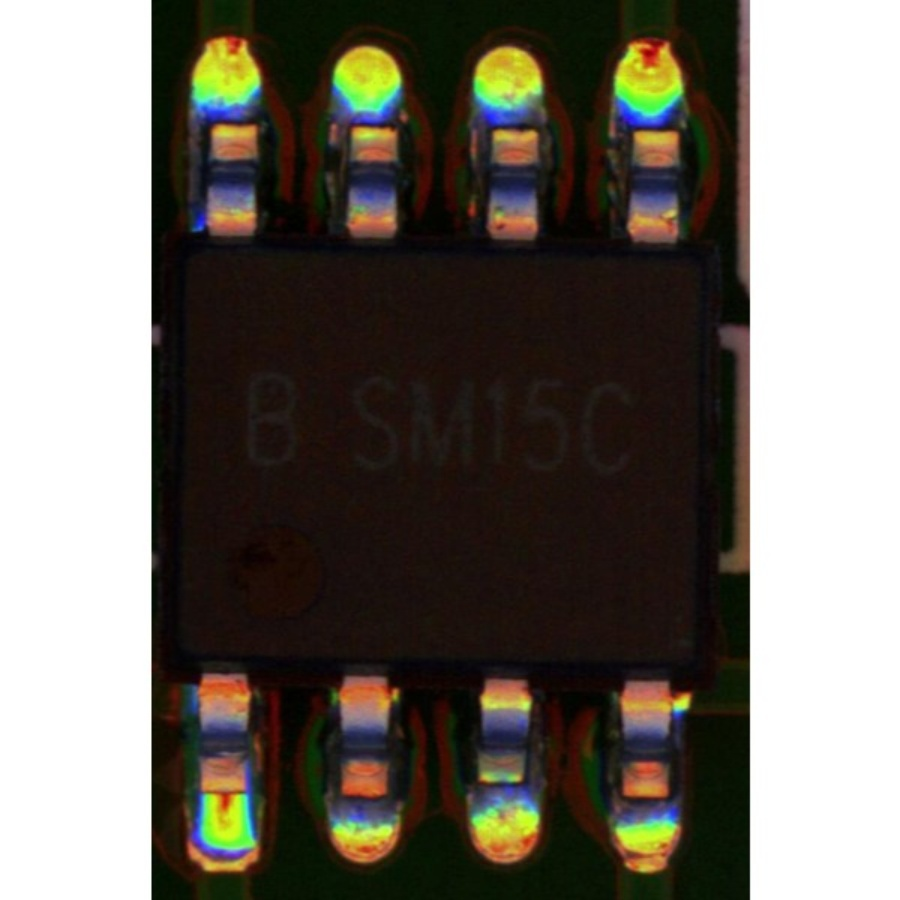Bad_podu: (204, 780, 243, 813)
